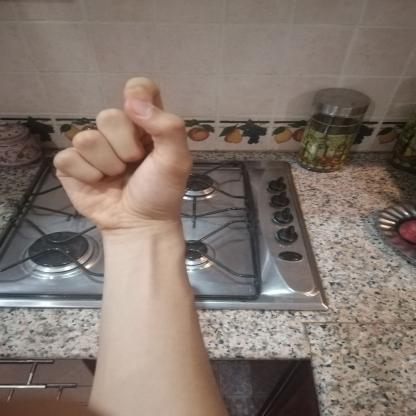FAA: (38, 70, 204, 240)
